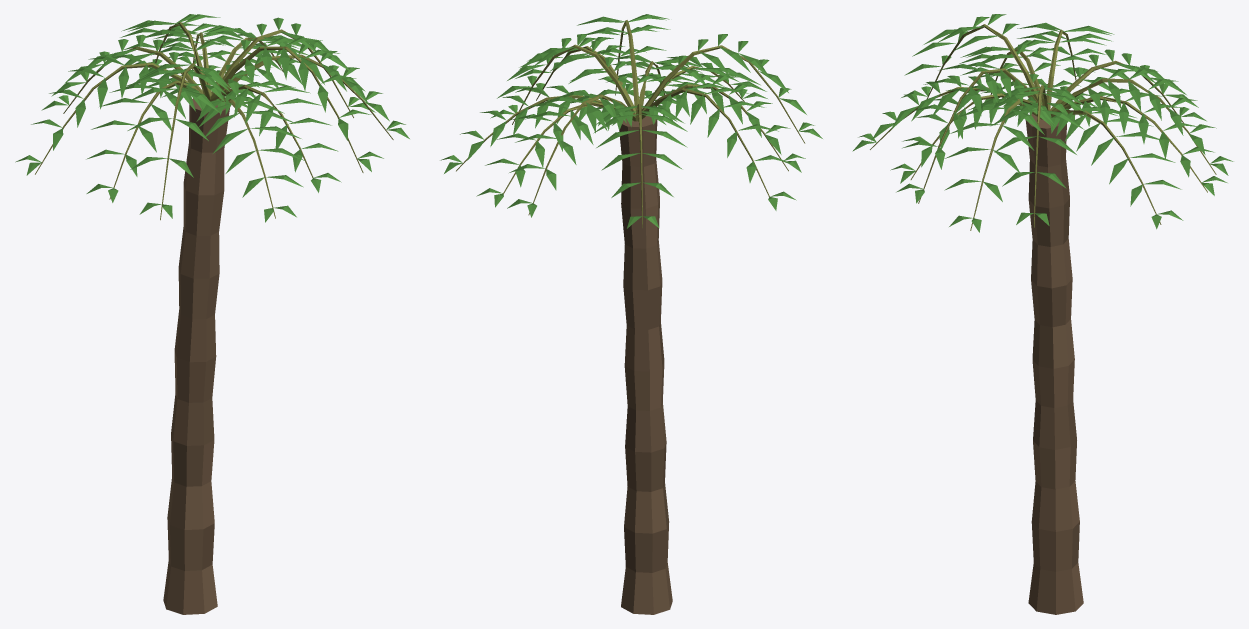
Rendered from date_palm_lod1.glb.
3 views of the same model, side by side, from view 1: azimuth 30°, elevation 25°; view 2: azimuth 150°, elevation 25°; view 3: azimuth 270°, elevation 25° (orthographic). The views are drawn at different scales.
Parts seen in each view (by area): view 1: date_palm; view 2: date_palm; view 3: date_palm.
Boxes of the visible parts, x1,y1,x2,y2 form: date_palm: (15,14,409,614); date_palm: (440,14,822,614); date_palm: (852,14,1233,614).
Bounding box in the file's own units: 4.75 × 7.65 × 4.73.
